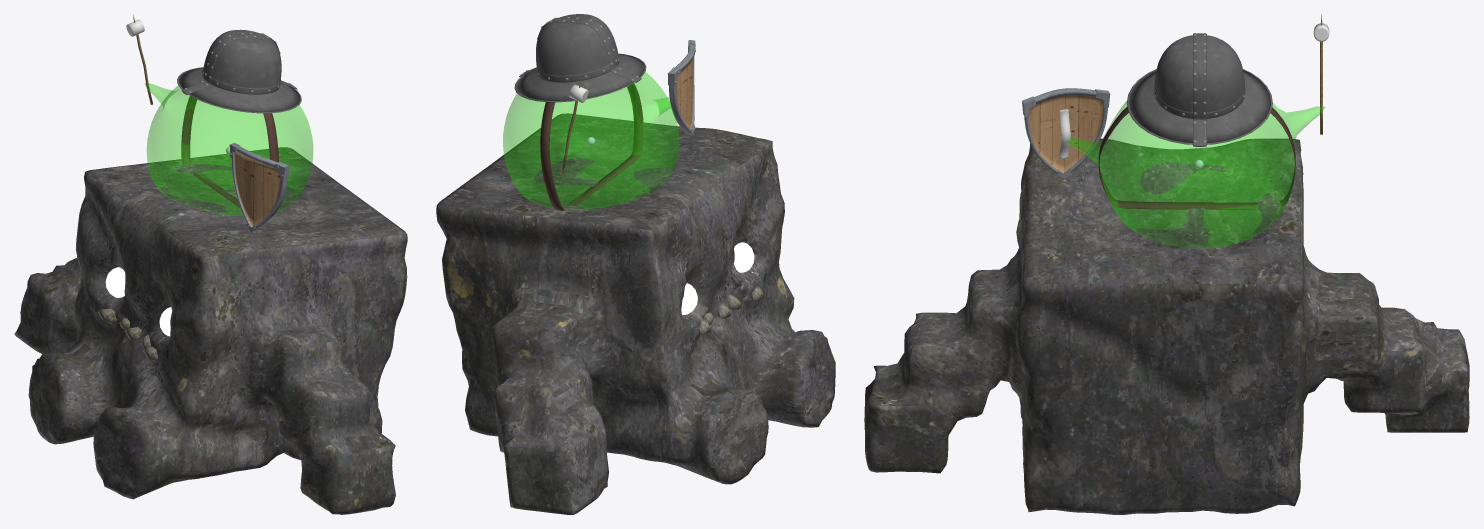
3 views of the same model, side by side, from view 1: azimuth 30°, elevation 25°; view 2: azimuth 150°, elevation 25°; view 3: azimuth 270°, elevation 25° (orthographic). The views are drawn at different scales.
Visible parts, largest first — view 1: Suu kivi.004, Slime, Kypärä, Kilpi, Plane.001, Cylinder.001, Vasen silmä.002; view 2: Suu kivi.004, Slime, Kypärä, Plane.001, Kilpi, Cylinder.001, Oikea silmä.002; view 3: Suu kivi.004, Slime, Kypärä, Kilpi, Plane.001, Cylinder.001.
Part boxes in pixels (x1=…): Suu kivi.004: x1=14, y1=147, x2=407, y2=514; Slime: x1=145, y1=83, x2=312, y2=215; Kypärä: x1=177, y1=29, x2=301, y2=113; Kilpi: x1=231, y1=146, x2=287, y2=228; Plane.001: x1=181, y1=96, x2=278, y2=207; Cylinder.001: x1=181, y1=33, x2=297, y2=95; Vasen silmä.002: x1=105, y1=267, x2=125, y2=297; Suu kivi.004: x1=436, y1=113, x2=835, y2=514; Slime: x1=503, y1=72, x2=678, y2=209; Kypärä: x1=514, y1=14, x2=646, y2=102; Plane.001: x1=540, y1=83, x2=643, y2=210; Kilpi: x1=669, y1=44, x2=694, y2=132; Cylinder.001: x1=519, y1=17, x2=641, y2=82; Oikea silmä.002: x1=733, y1=242, x2=754, y2=272; Suu kivi.004: x1=864, y1=138, x2=1469, y2=514; Slime: x1=1066, y1=101, x2=1324, y2=248; Kypärä: x1=1126, y1=35, x2=1272, y2=144; Kilpi: x1=1024, y1=88, x2=1107, y2=174; Plane.001: x1=1098, y1=107, x2=1295, y2=209; Cylinder.001: x1=1193, y1=33, x2=1206, y2=146.
Bounding box in the file's own units: 1.62 × 2.14 × 2.67.
Materials: 10 (7 with a texture image).
